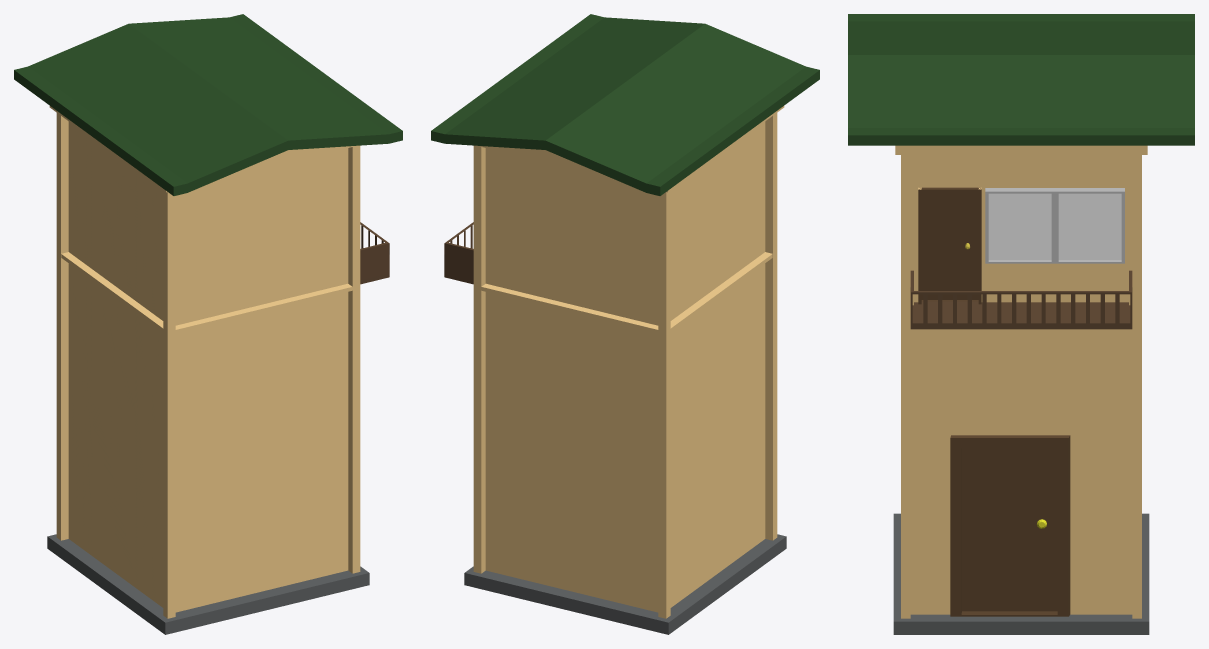
File: PortBuilding_1.glb
3 renders of one model, left to right at view 1: azimuth 30°, elevation 25°; view 2: azimuth 150°, elevation 25°; view 3: azimuth 270°, elevation 25°, orthographic. The views are drawn at different scales.
Visible parts, largest first — view 1: Cube, Roof, Fence; view 2: Cube, Roof, Fence; view 3: Cube, Roof, Window upstairs, Fence.
Boxes of the visible parts, bbox=[...] form: Cube: bbox=[47, 106, 369, 634]; Roof: bbox=[14, 14, 402, 195]; Fence: bbox=[360, 222, 389, 284]; Cube: bbox=[464, 106, 786, 634]; Roof: bbox=[431, 14, 819, 195]; Fence: bbox=[444, 222, 473, 284]; Cube: bbox=[893, 145, 1149, 634]; Roof: bbox=[848, 14, 1194, 145]; Window upstairs: bbox=[985, 188, 1124, 263]; Fence: bbox=[910, 270, 1132, 329].
Size of the model in its own units: 4.39 by 8.31 by 4.96.
